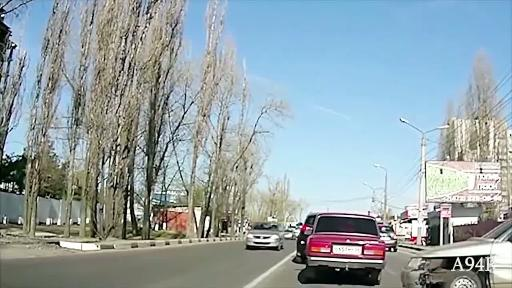Accident: (263, 159, 406, 288)
